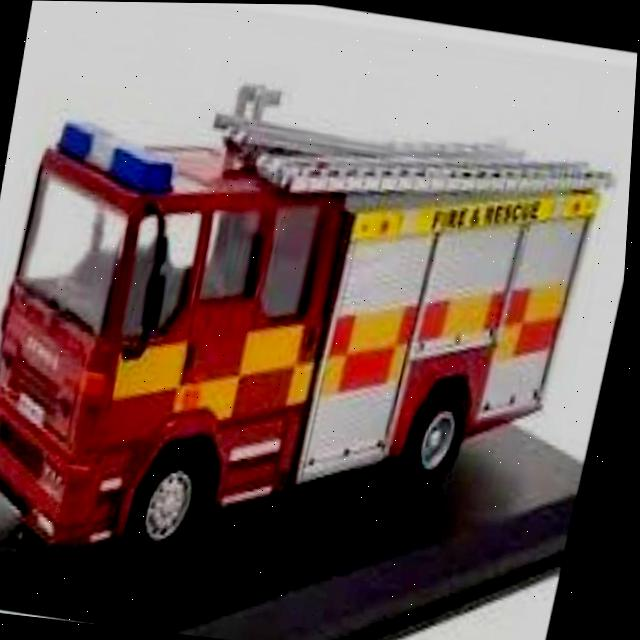emergency: (0, 54, 628, 623)
